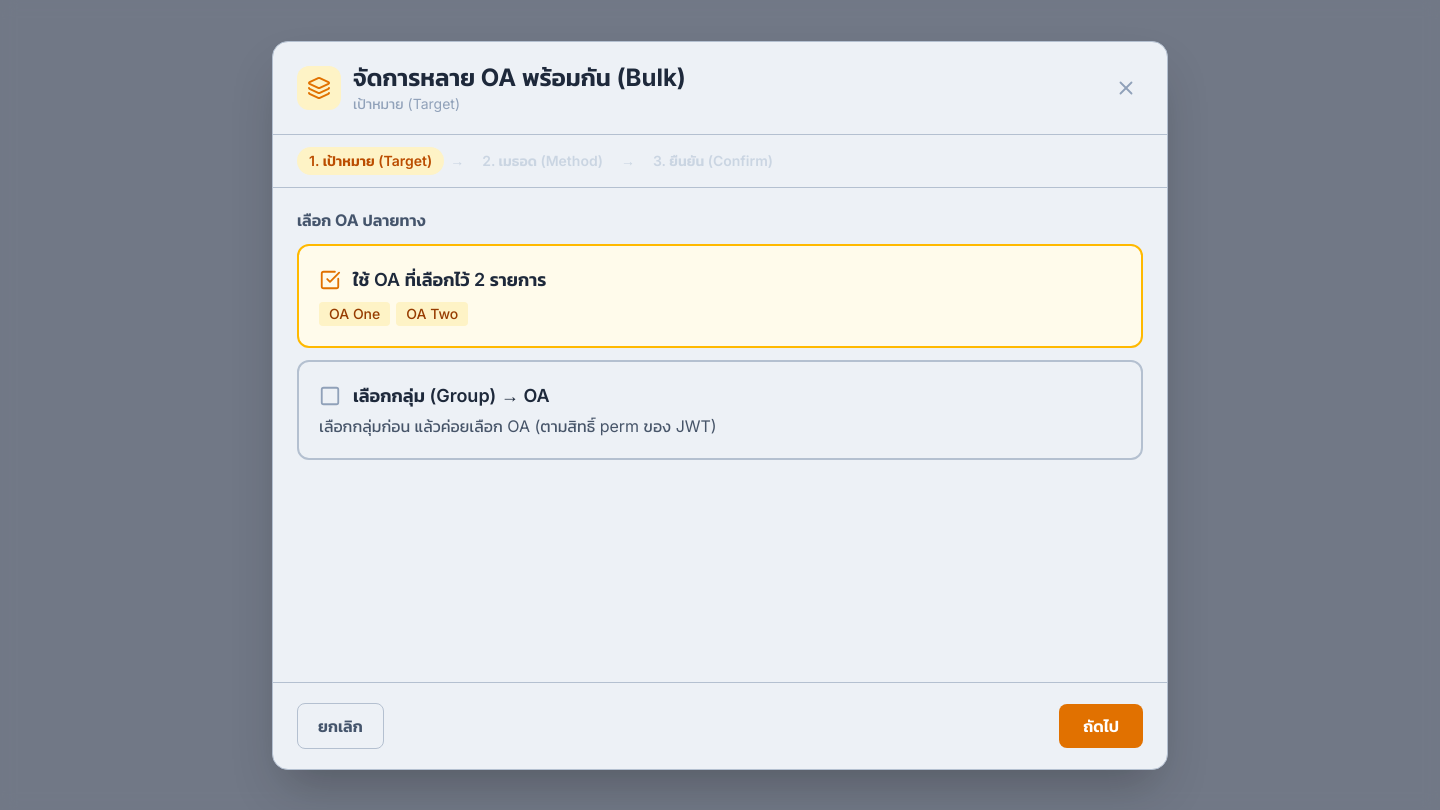
Test: BulkMethodModal — payment (validated endpoint) › renders the 403 blocked[] as one row per refused OA, with its reason
The image size is (1440, 810).
Click the button with test id "bm-next" at (1101, 726), box [1059,704,1143,748]
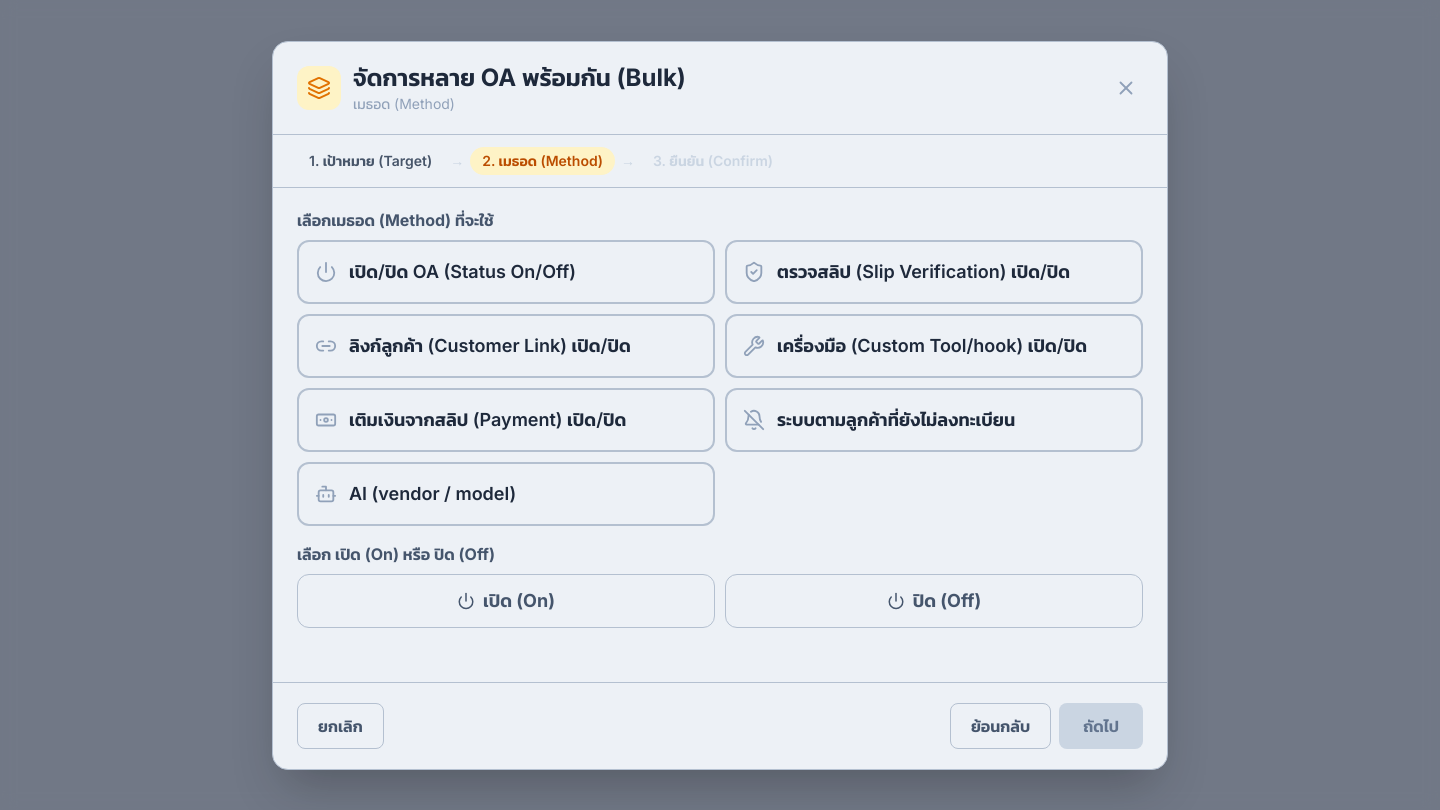
Click the button with test id "bm-method-payment_tool_status" at (506, 420), box [297,388,715,452]
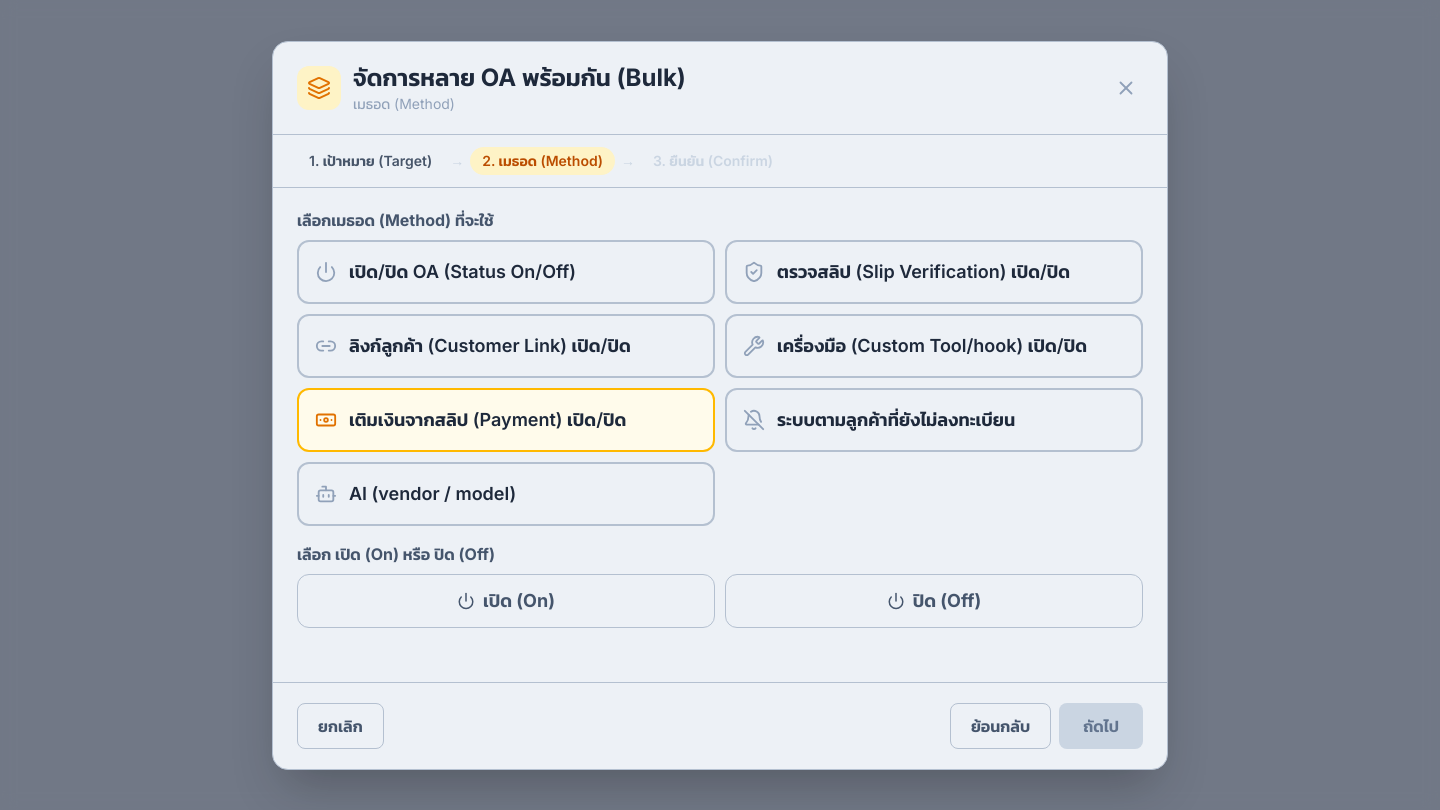
Click the button with test id "bm-value-on" at (506, 600), box [297,574,715,628]
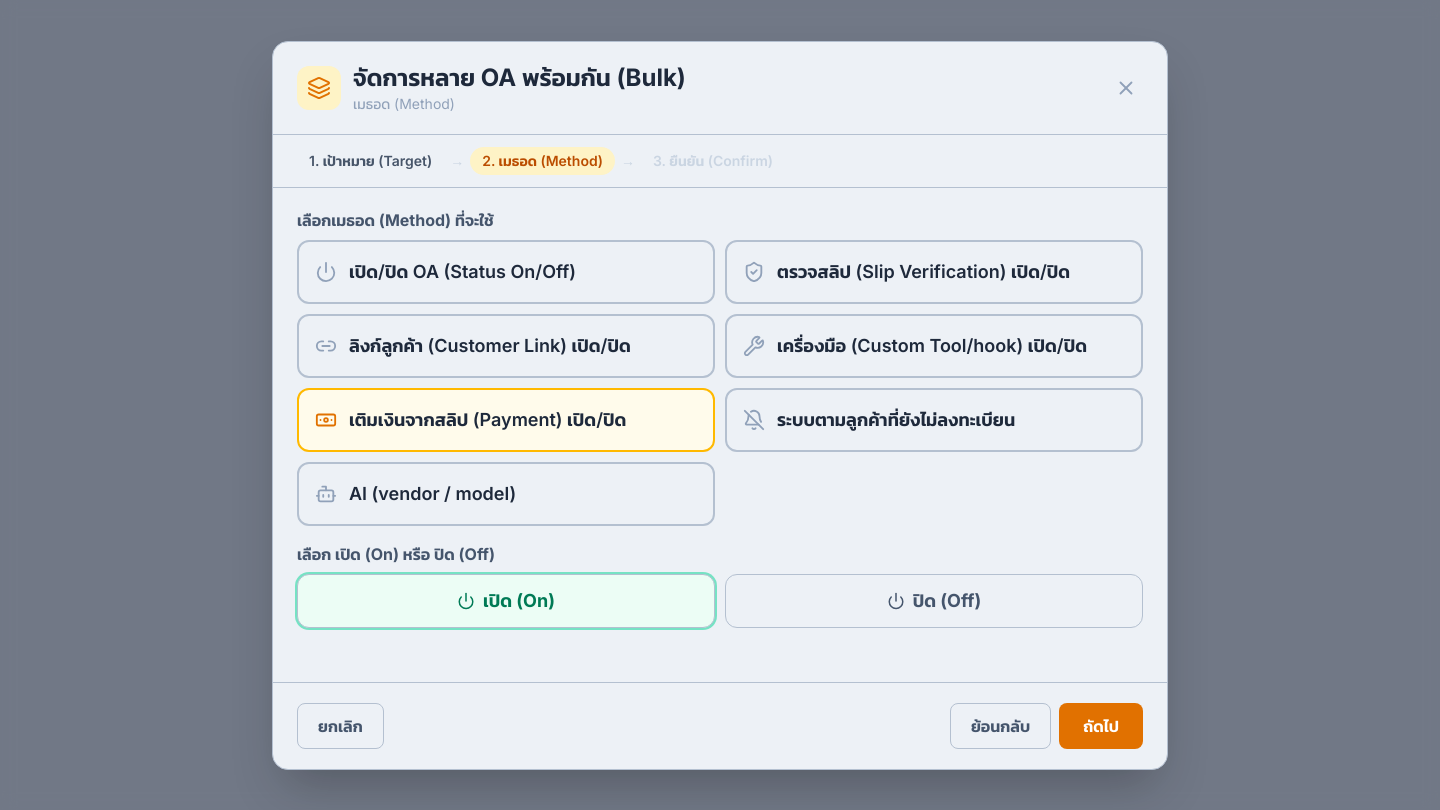
Click the button with test id "bm-next" at (1101, 726), box [1059,702,1143,748]
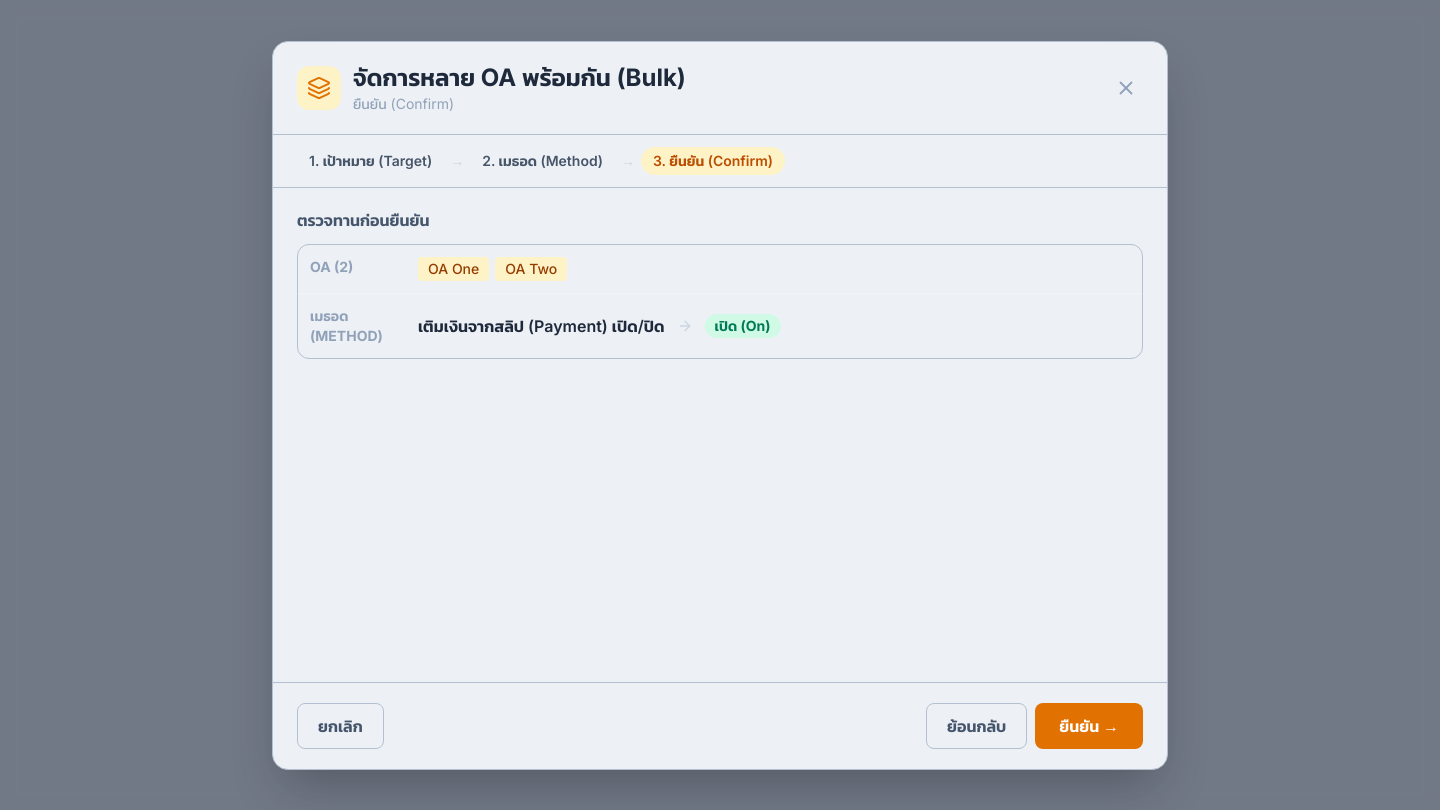
Click the button with test id "bm-review" at (1089, 726), box [1035,702,1143,748]
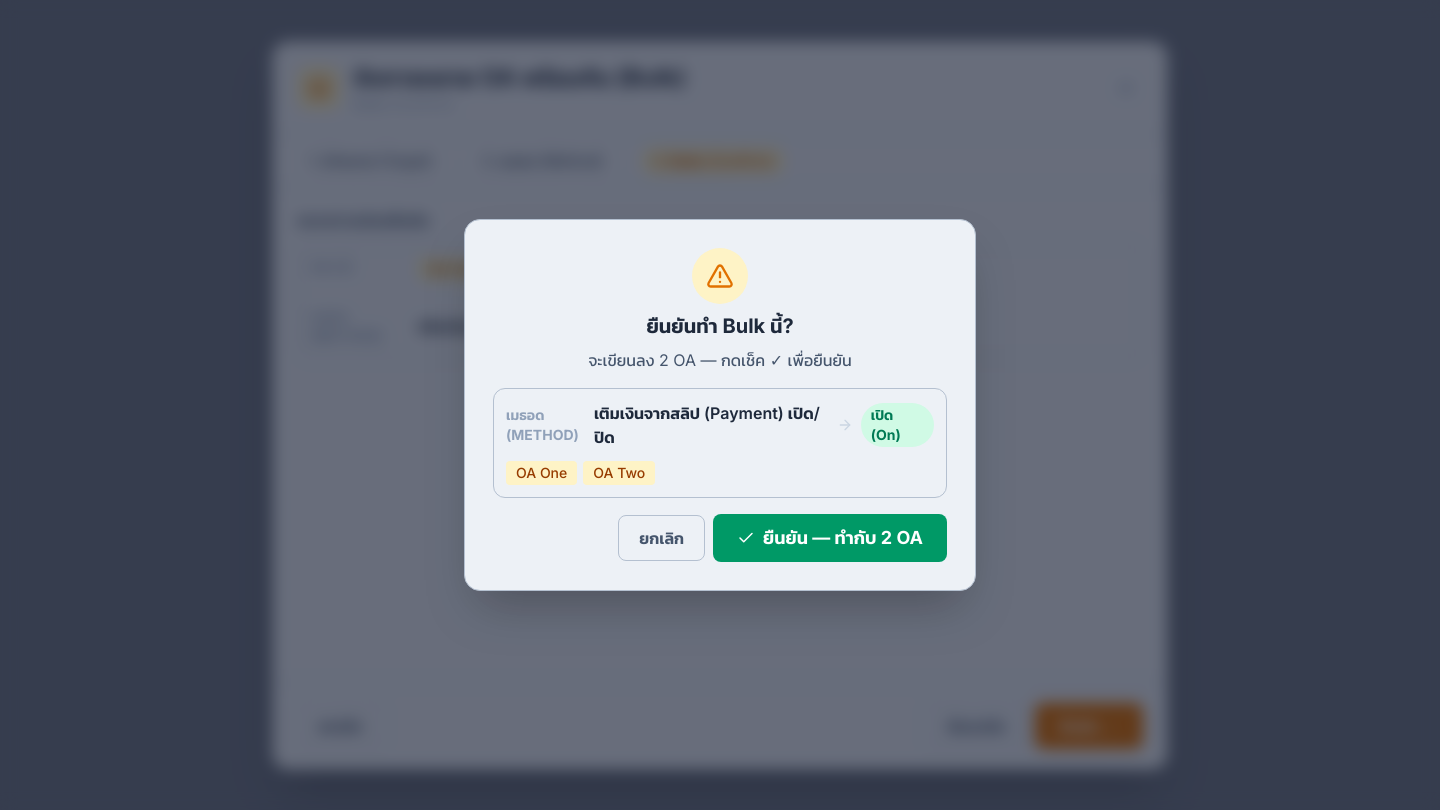
Click the button with test id "bm-confirm" at (830, 538), box [713,514,947,562]
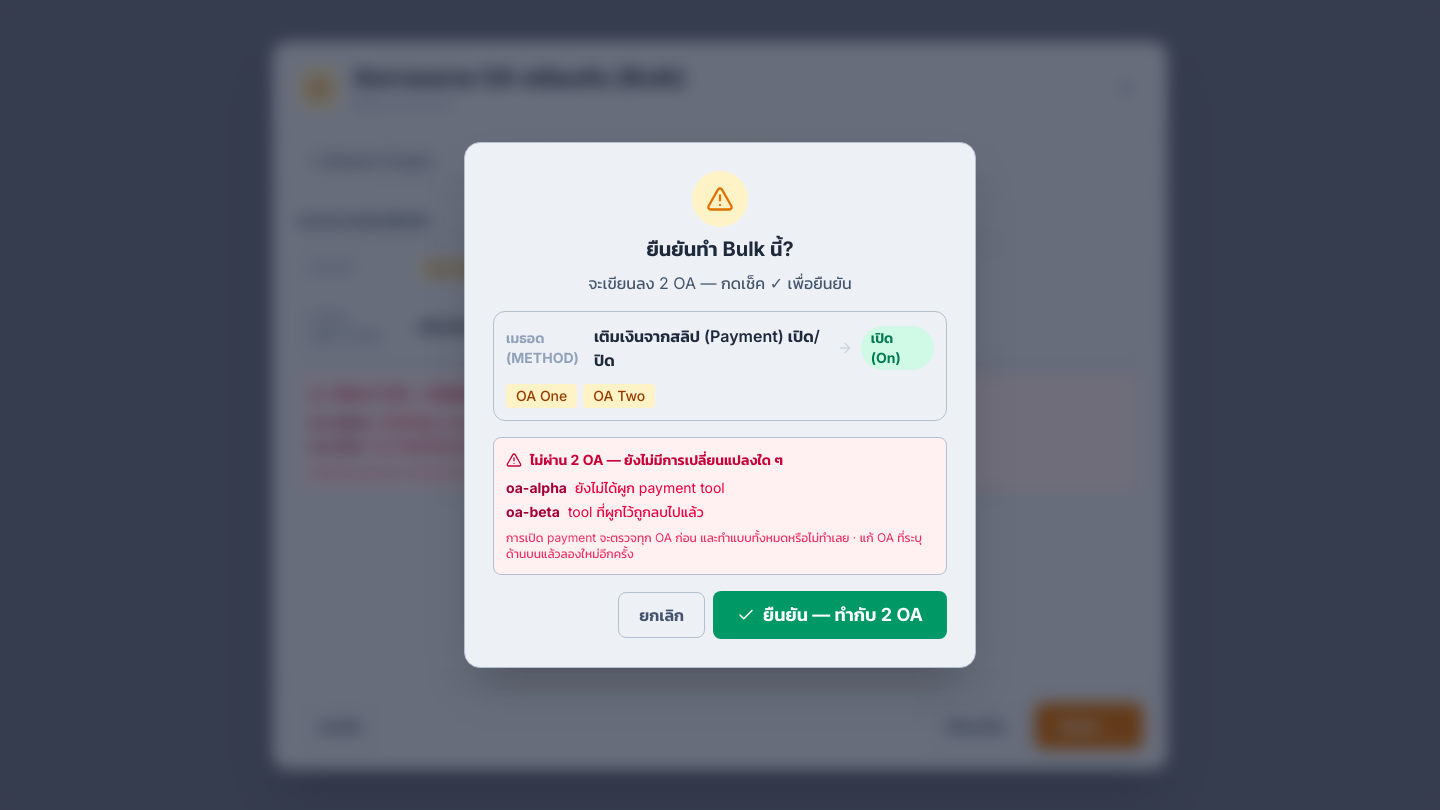
Expected: the number of list items with test id "bm-blocked-row" is 4, [310,412,529,430]; [310,436,508,454]; [506,479,725,496]; [506,503,704,520]
